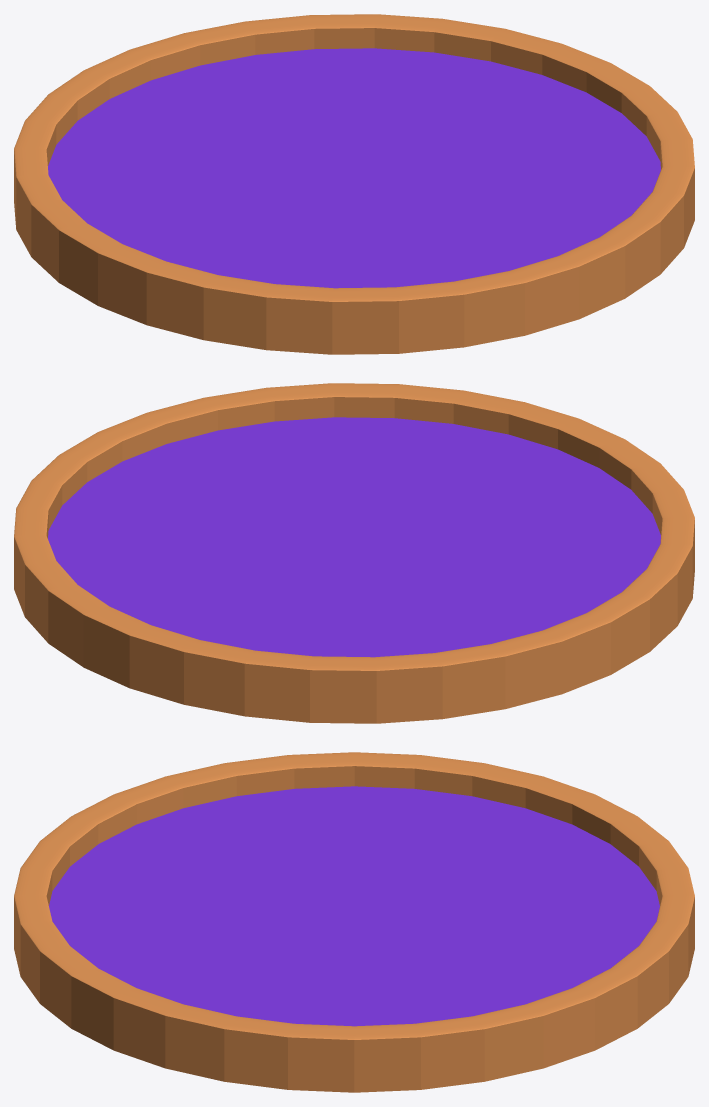
File: KuchenBlaubeere.fbx
3 renders of one model, top to bottom at view 1: azimuth 30°, elevation 25°; view 2: azimuth 150°, elevation 25°; view 3: azimuth 270°, elevation 25°, orthographic.
Parts seen in each view (by area): view 1: Cylinder; view 2: Cylinder; view 3: Cylinder.
Boxes of the visible parts, x1,y1,x2,y2 form: Cylinder: (14, 14, 694, 354); Cylinder: (14, 383, 694, 723); Cylinder: (14, 752, 694, 1092).
Size of the model in its own units: 150 by 13 by 150.
